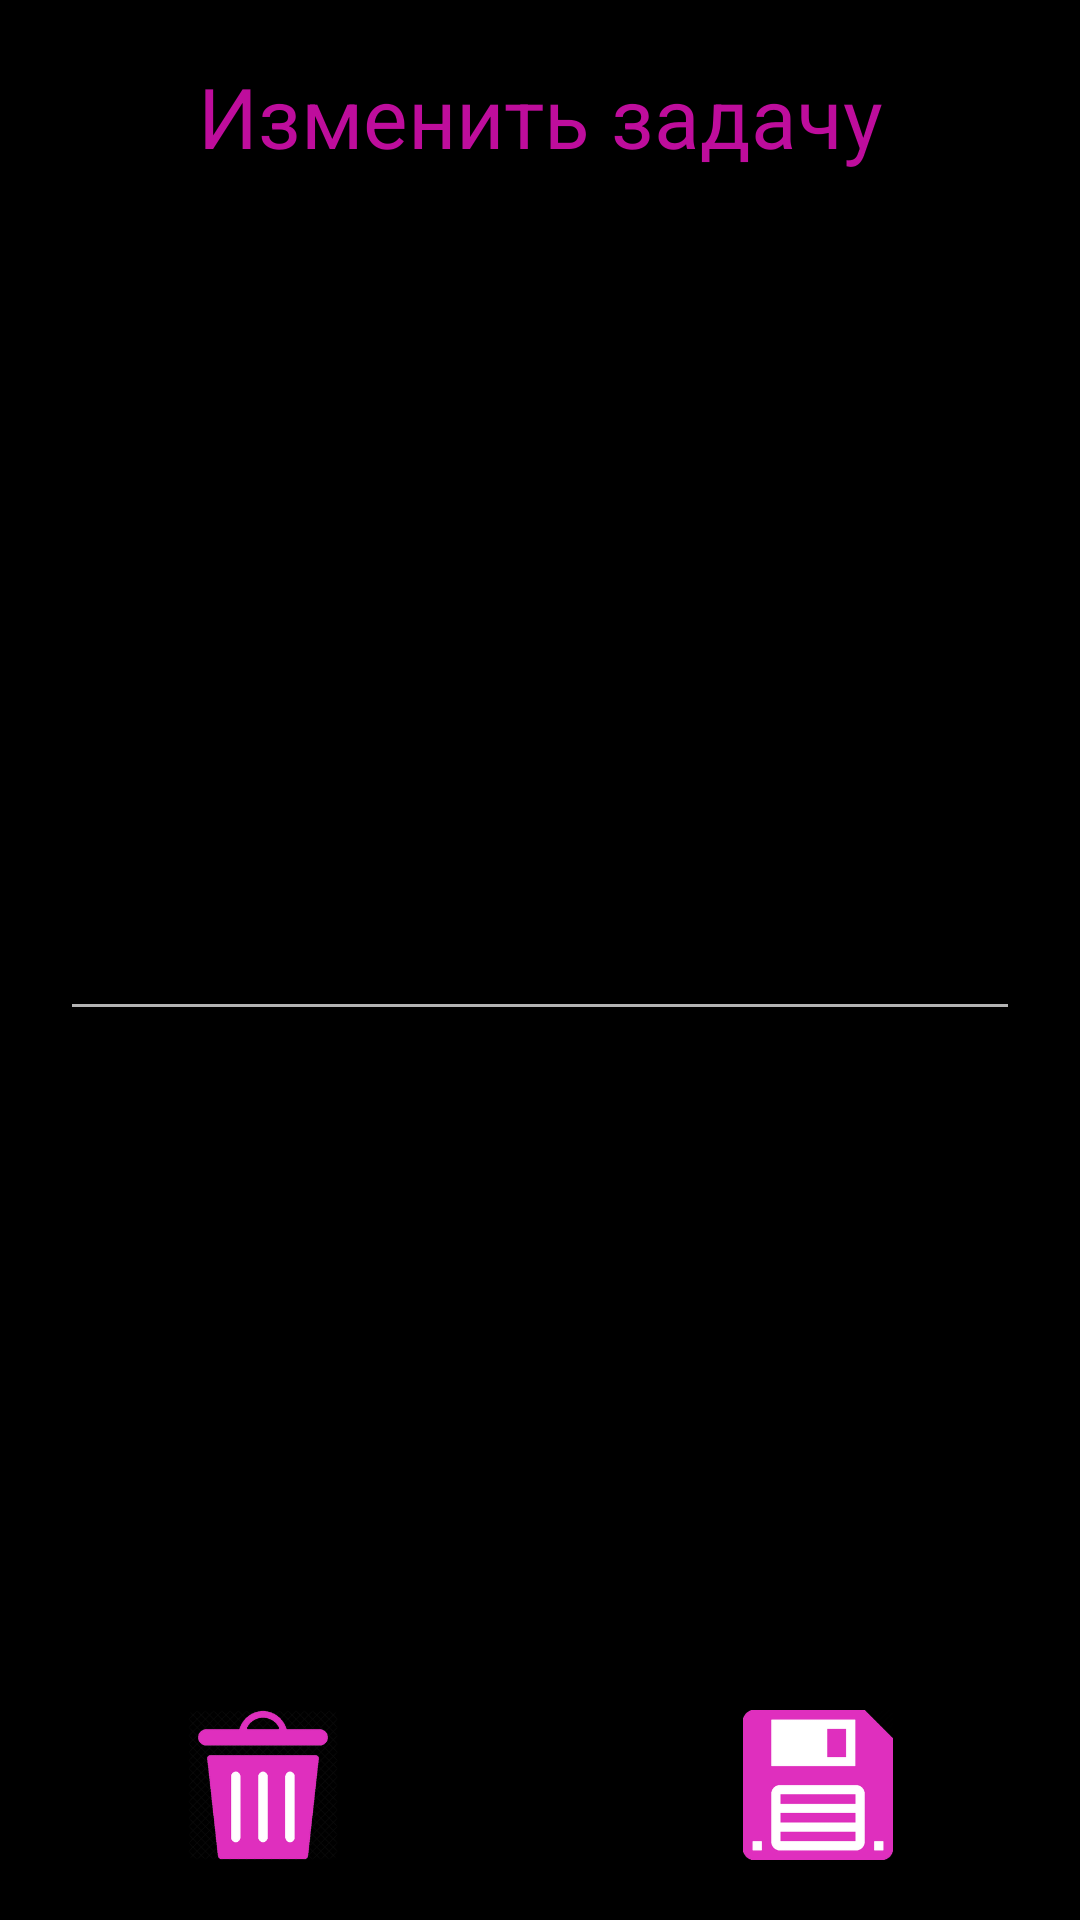

Icons on this 1080*1920 Android screen, each with its box as rect(x1, y1, x2, y2):
delete: rect(198, 1711, 328, 1859)
save: rect(743, 1710, 893, 1860)
